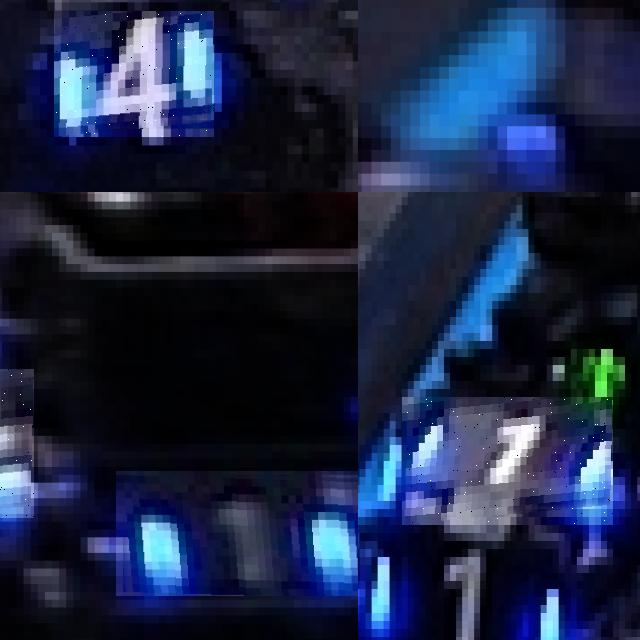B1: (116, 471, 358, 596), (402, 397, 613, 525), (358, 533, 576, 640), (0, 369, 34, 517)
B4: (54, 11, 214, 137)
